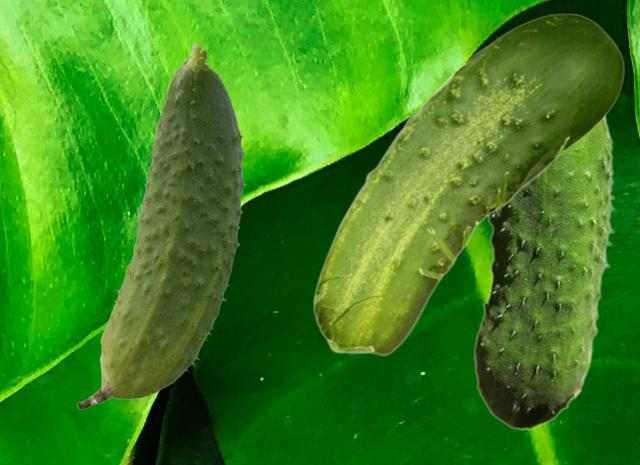cucumber: (312, 13, 623, 355), (77, 43, 245, 408), (473, 114, 615, 429)
